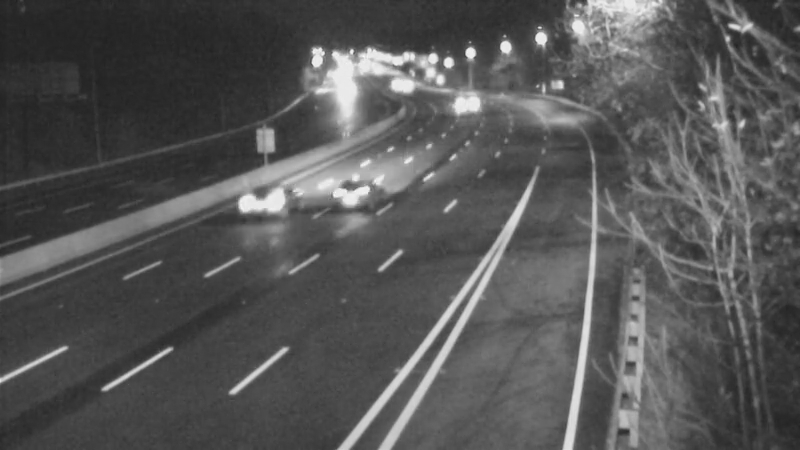vehicle: (312, 147, 392, 227), (224, 162, 304, 242), (371, 63, 421, 113), (444, 80, 494, 130)
